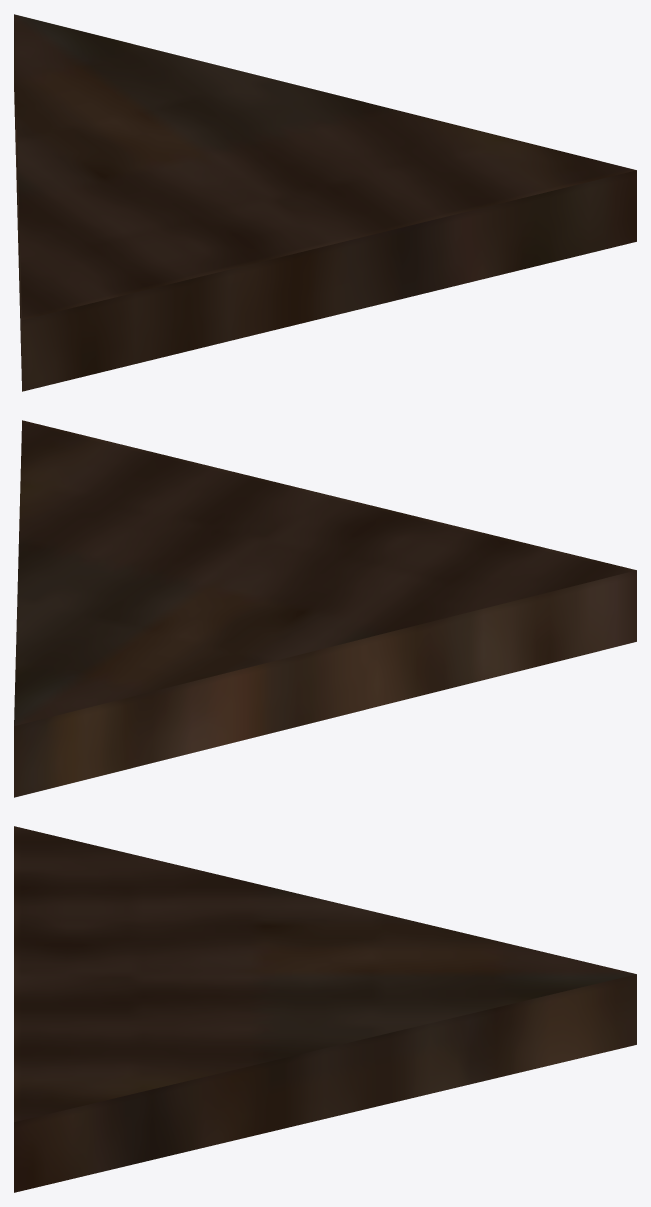
File: planchette.glb
3 views of the same model, one above another, from view 1: azimuth 30°, elevation 25°; view 2: azimuth 150°, elevation 25°; view 3: azimuth 270°, elevation 25° (orthographic).
Parts seen in each view (by area): view 1: planchette; view 2: planchette; view 3: planchette.
Part boxes in pixels (<box>): planchette: <box>14,14,636,391</box>; planchette: <box>14,420,636,797</box>; planchette: <box>14,826,636,1192</box>.
Bounding box in the file's own units: 0.18 × 0.02 × 0.16.
1 material, 1 textured.
